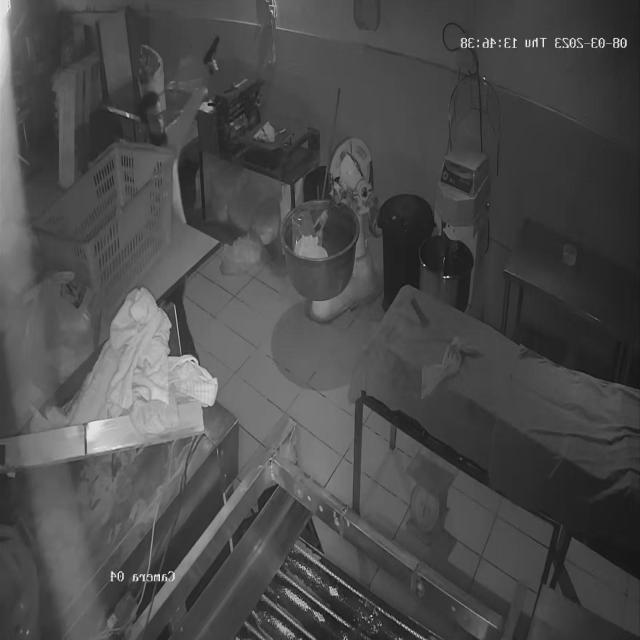Gun: (196, 28, 236, 80)
